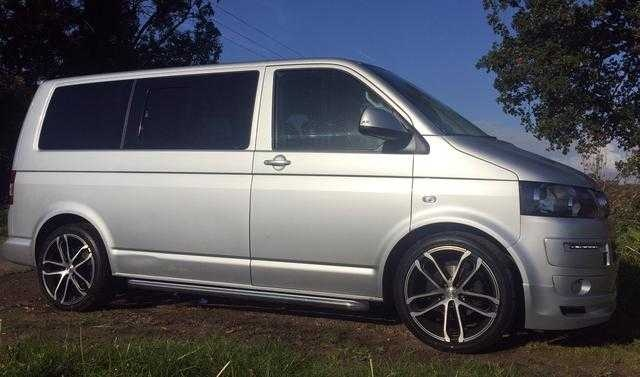van: (1, 55, 619, 356)
